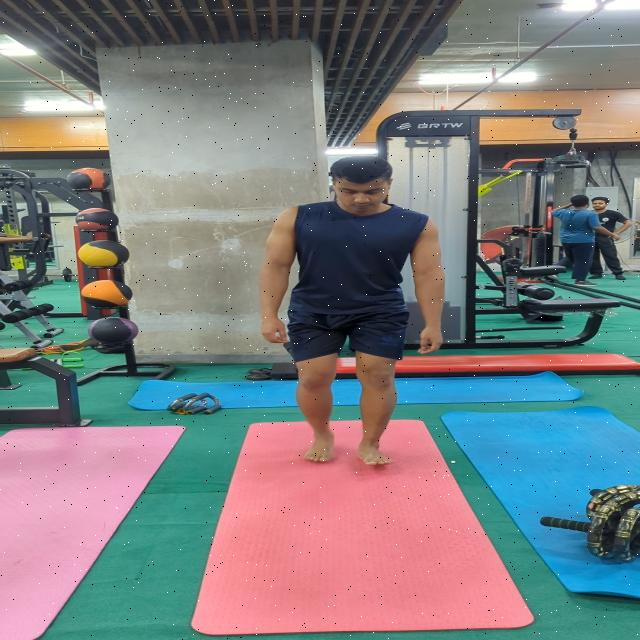Normal_Lunges: (257, 152, 446, 470)
